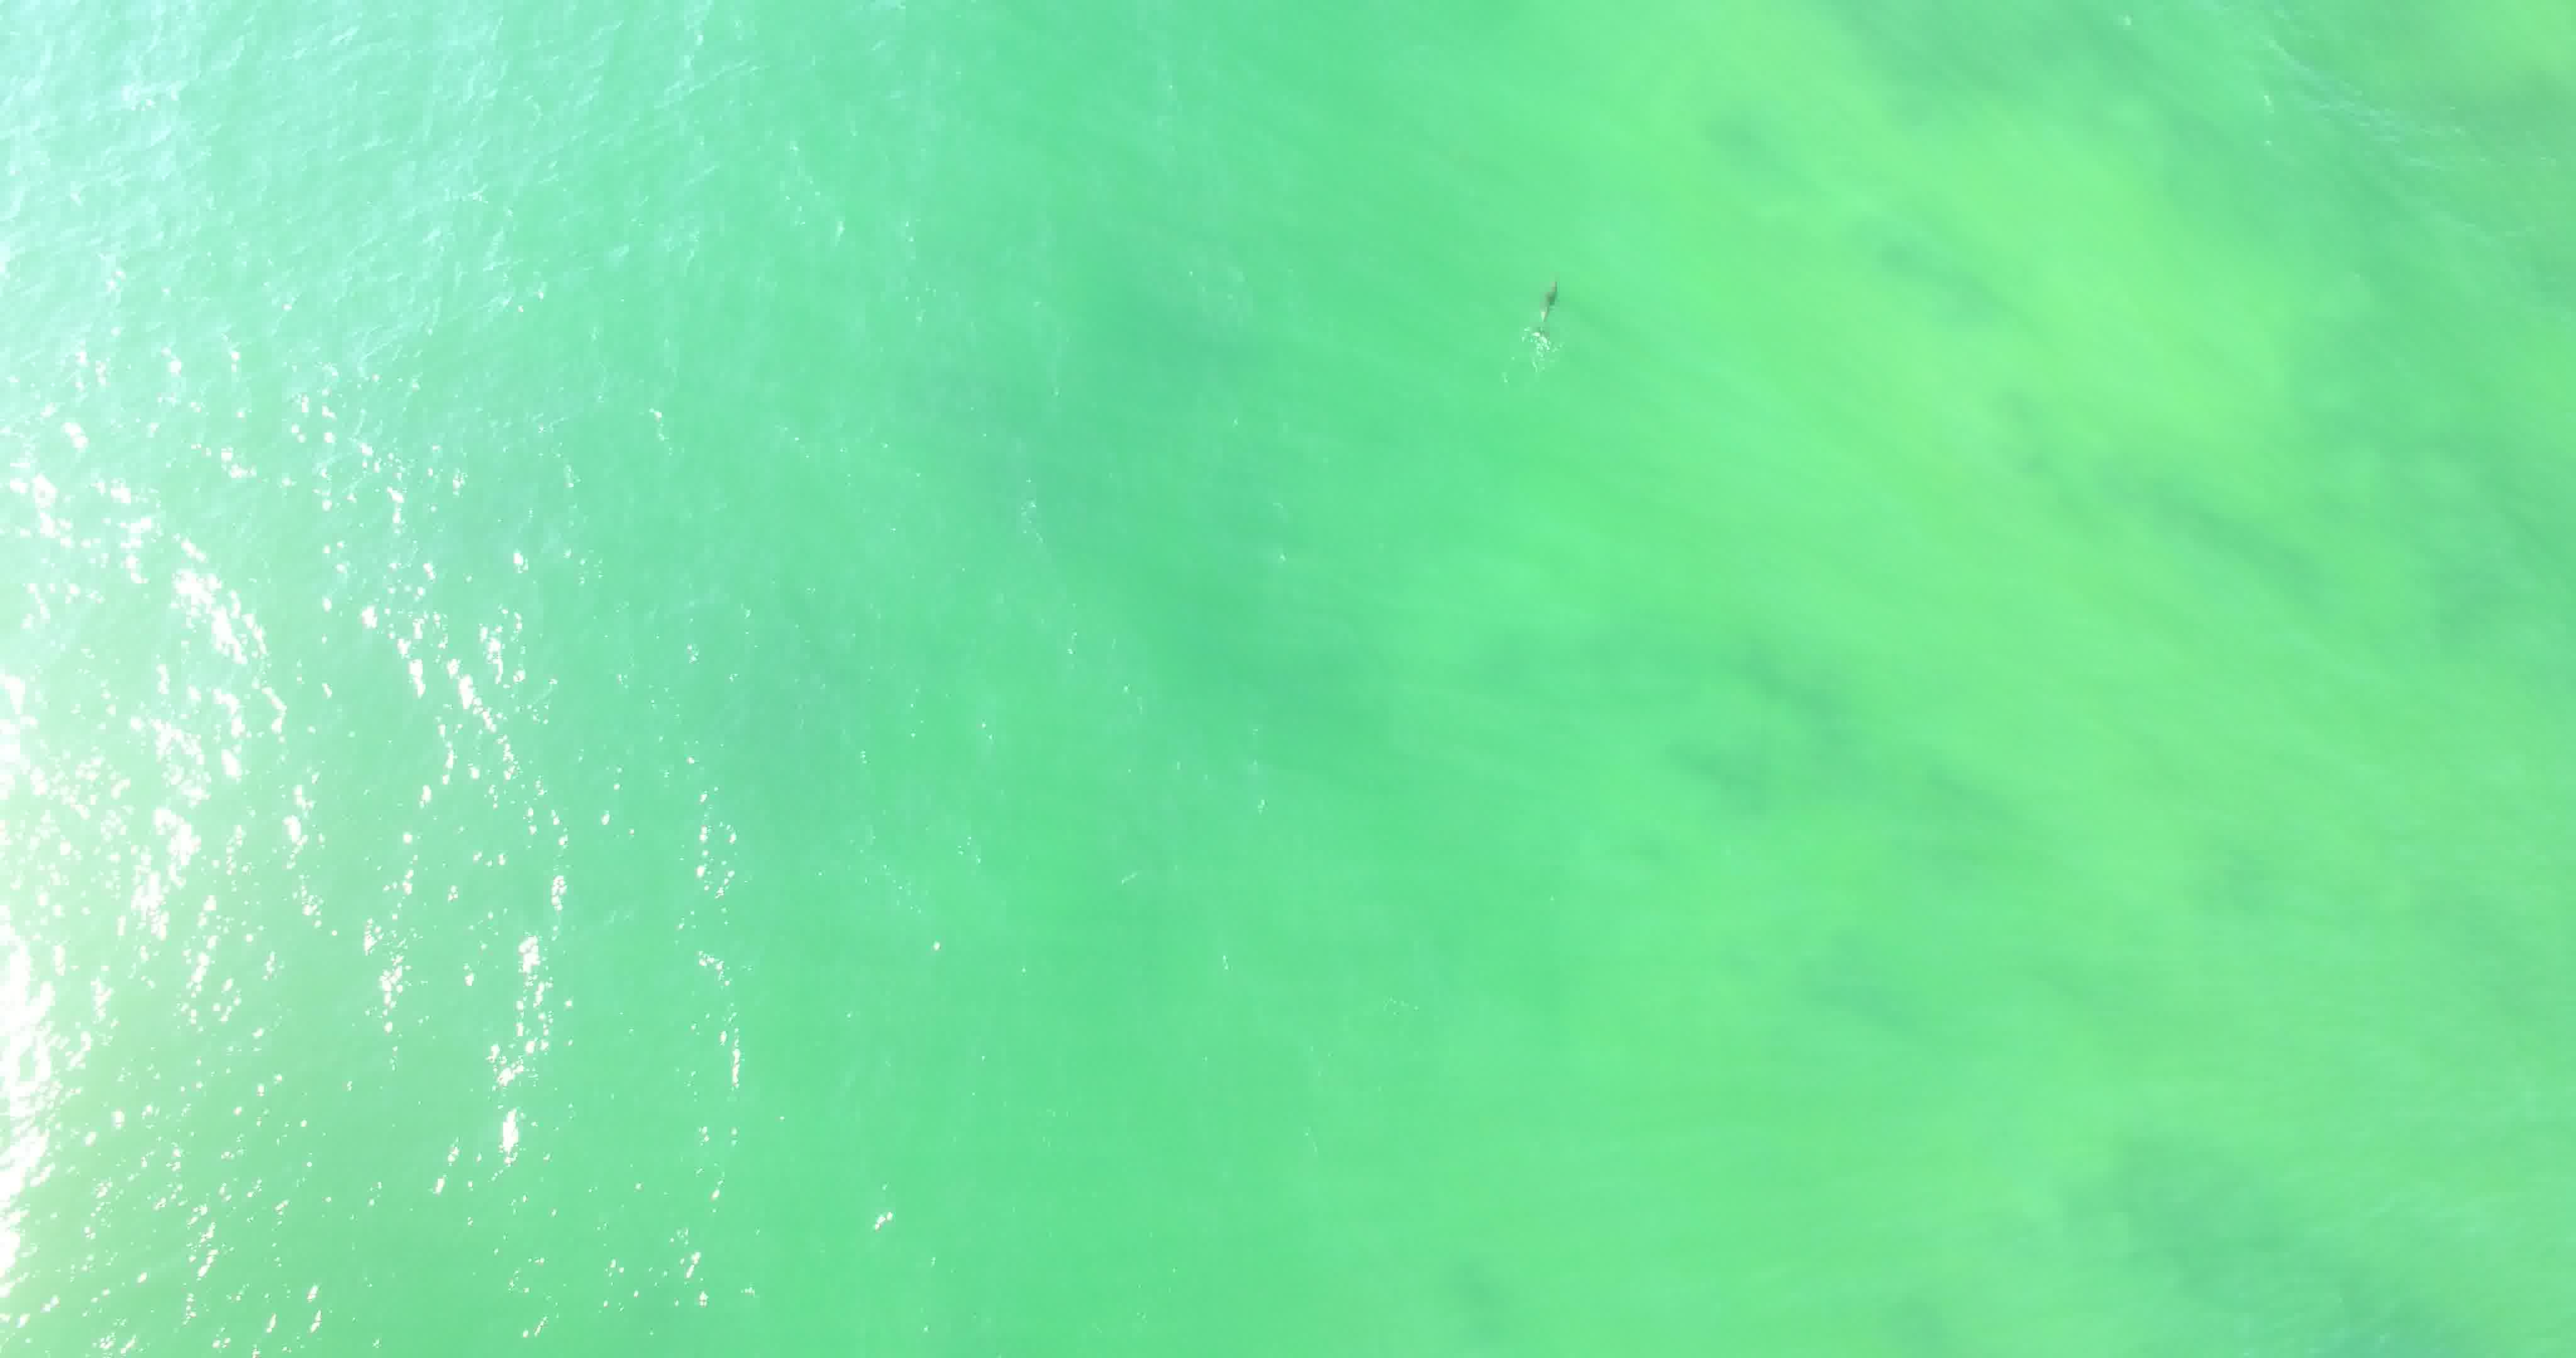dolphin: (1498, 233, 1584, 358)
